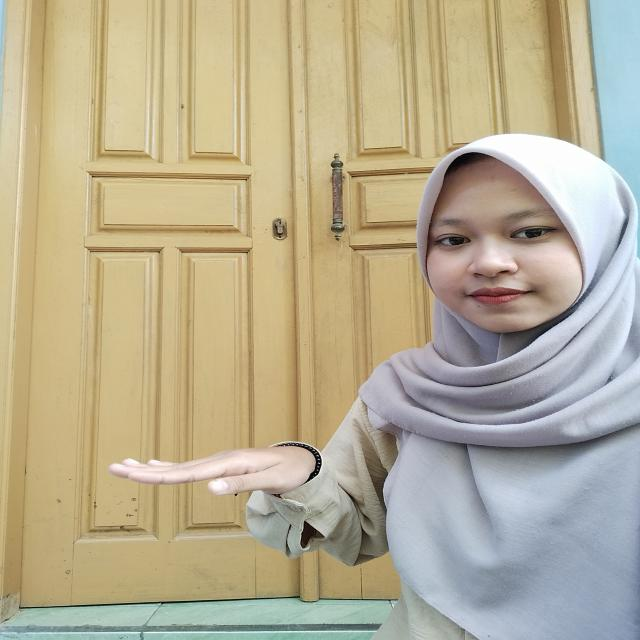adik: (92, 438, 352, 520)
